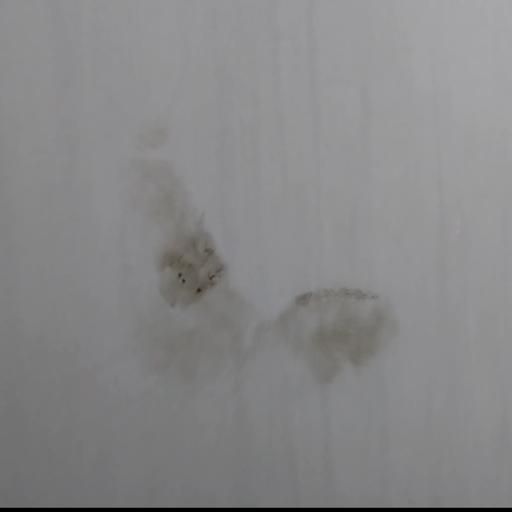stain: (110, 117, 394, 416)
